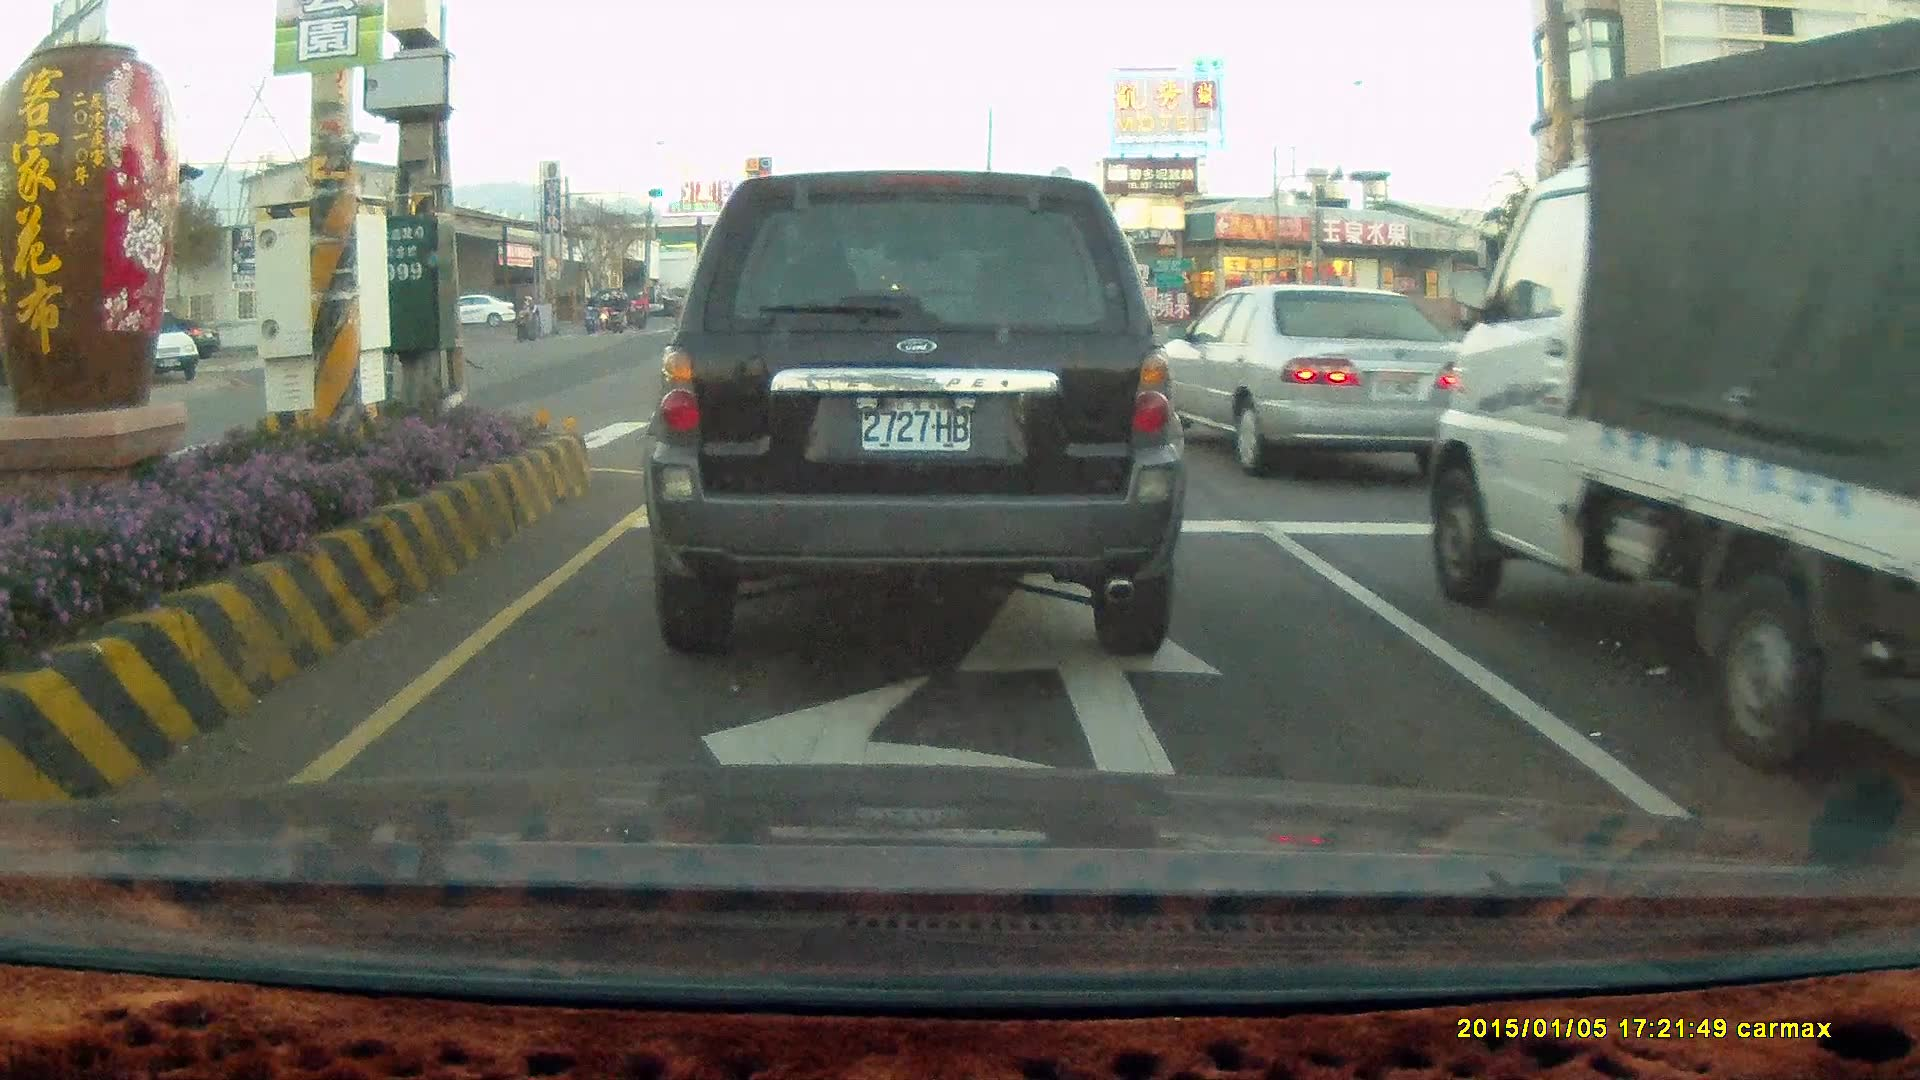rider: (508, 294, 540, 342), (607, 289, 633, 337), (580, 291, 601, 337), (630, 288, 651, 329), (585, 294, 607, 334)
vehicle: (1427, 15, 1920, 783), (639, 167, 1184, 656), (1149, 281, 1482, 477), (1138, 287, 1464, 474), (1683, 283, 1840, 372), (113, 309, 200, 388), (448, 297, 515, 329)
